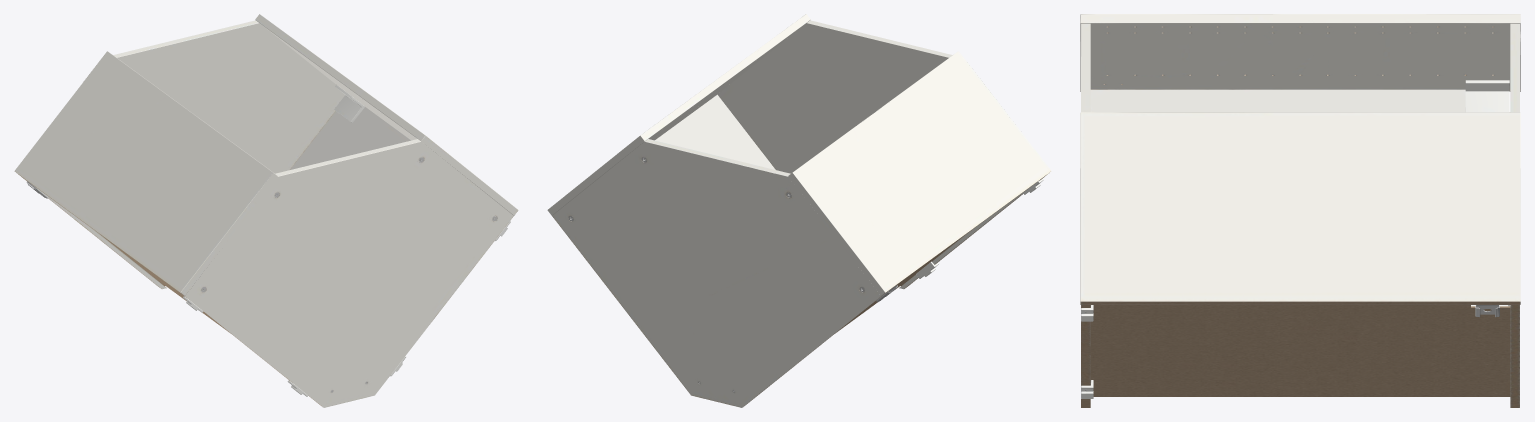
Rendered from metod_narozna_szafka_wiszaca_20205661.glb.
3 views of the same model, side by side, from view 1: azimuth 30°, elevation 25°; view 2: azimuth 150°, elevation 25°; view 3: azimuth 270°, elevation 25° (orthographic). The views are drawn at different scales.
Visible parts, largest first — view 1: metod_narozna_szafka_wiszaca_20205661; view 2: metod_narozna_szafka_wiszaca_20205661; view 3: metod_narozna_szafka_wiszaca_20205661.
Part boxes in pixels (x1,y1,x2,y2): metod_narozna_szafka_wiszaca_20205661: (14,14,518,407); metod_narozna_szafka_wiszaca_20205661: (547,14,1051,407); metod_narozna_szafka_wiszaca_20205661: (1080,14,1520,407).
Bounding box in the file's own units: 0.9405 × 0.658 × 0.8.
1 material, 1 textured.
